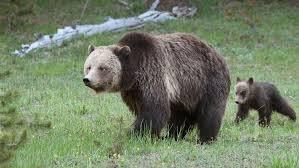bear: (83, 31, 232, 144), (234, 77, 296, 128)
